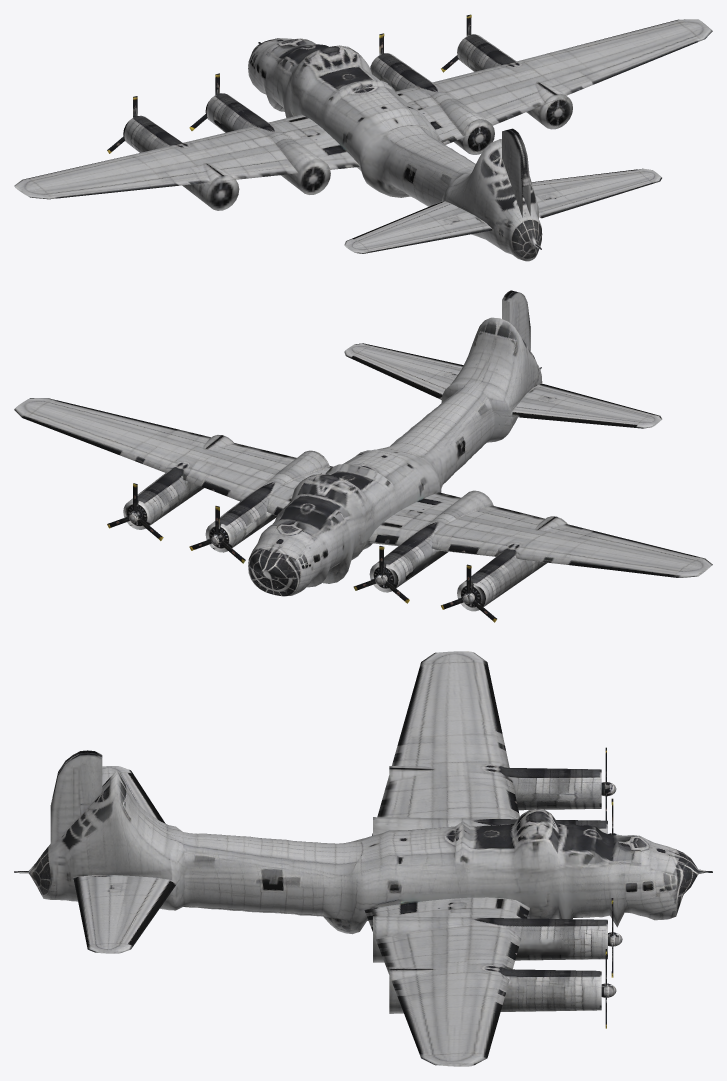
The model's file is meshy_model.glb.
3 views of the same model, one above another, from view 1: azimuth 30°, elevation 25°; view 2: azimuth 150°, elevation 25°; view 3: azimuth 270°, elevation 25° (orthographic). The views are drawn at different scales.
Size of the model in its own units: 2 by 0.4147 by 1.43.
1 material, 1 textured.
